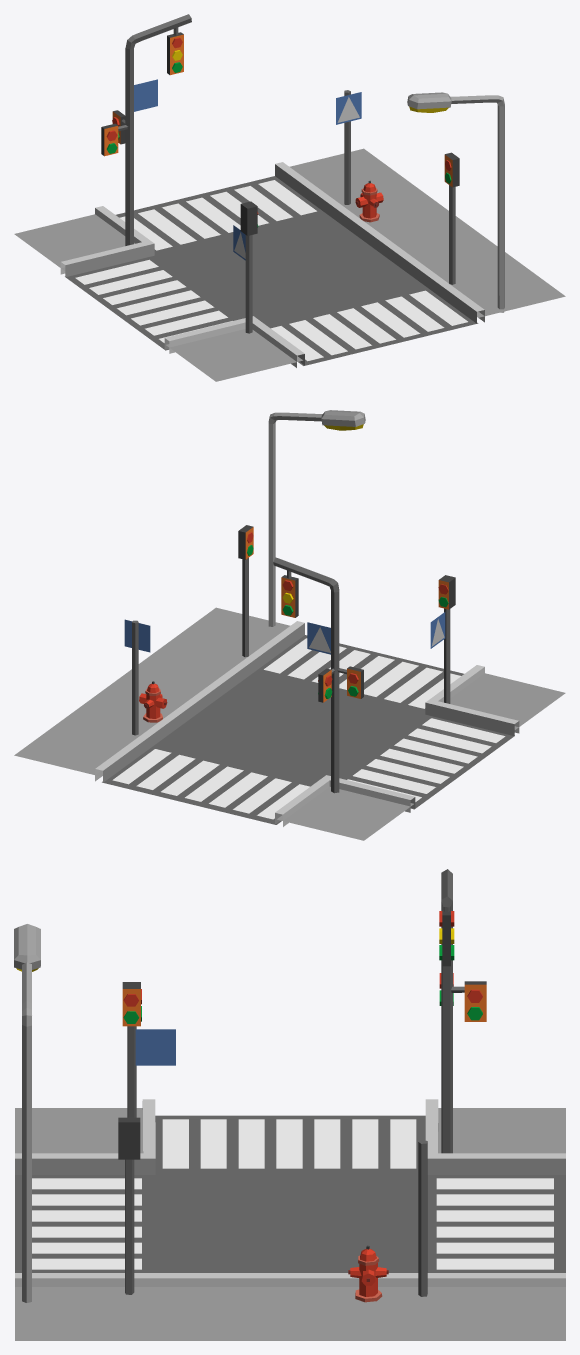
File: Road_Tile_7.fbx
The picture shows the model from 3 angles, top to bottom: view 1: azimuth 30°, elevation 25°; view 2: azimuth 150°, elevation 25°; view 3: azimuth 270°, elevation 25°; orthographic projection. The views are drawn at different scales.
Visible parts, largest first — view 1: Road_7, Sign_7_2, Light_7, Sign_7_1, Sign_7_4, Sign_7_3, Hydrant_7; view 2: Road_7, Sign_7_2, Light_7, Sign_7_1, Sign_7_4, Sign_7_3, Hydrant_7; view 3: Road_7, Sign_7_2, Light_7, Sign_7_1, Sign_7_3, Sign_7_4, Hydrant_7.
Boxes of the visible parts, x1=… form: Road_7: x1=14, y1=148, x2=565, y2=381; Sign_7_2: x1=101, y1=14, x2=191, y2=245; Light_7: x1=407, y1=92, x2=504, y2=312; Sign_7_1: x1=233, y1=201, x2=258, y2=333; Sign_7_4: x1=336, y1=90, x2=361, y2=204; Sign_7_3: x1=444, y1=152, x2=459, y2=284; Hydrant_7: x1=355, y1=180, x2=383, y2=222; Road_7: x1=14, y1=607, x2=565, y2=840; Sign_7_2: x1=273, y1=557, x2=363, y2=793; Light_7: x1=268, y1=410, x2=365, y2=626; Sign_7_1: x1=430, y1=575, x2=455, y2=703; Sign_7_4: x1=124, y1=619, x2=150, y2=735; Sign_7_3: x1=238, y1=525, x2=253, y2=657; Hydrant_7: x1=139, y1=681, x2=167, y2=722; Road_7: x1=15, y1=1099, x2=565, y2=1340; Sign_7_2: x1=439, y1=869, x2=486, y2=1153; Light_7: x1=14, y1=924, x2=40, y2=1302; Sign_7_1: x1=122, y1=982, x2=175, y2=1117; Sign_7_3: x1=118, y1=1117, x2=140, y2=1294; Sign_7_4: x1=418, y1=1140, x2=427, y2=1296; Hydrant_7: x1=348, y1=1245, x2=388, y2=1302.
Size of the model in its own units: 4 by 2.62 by 4.01.
